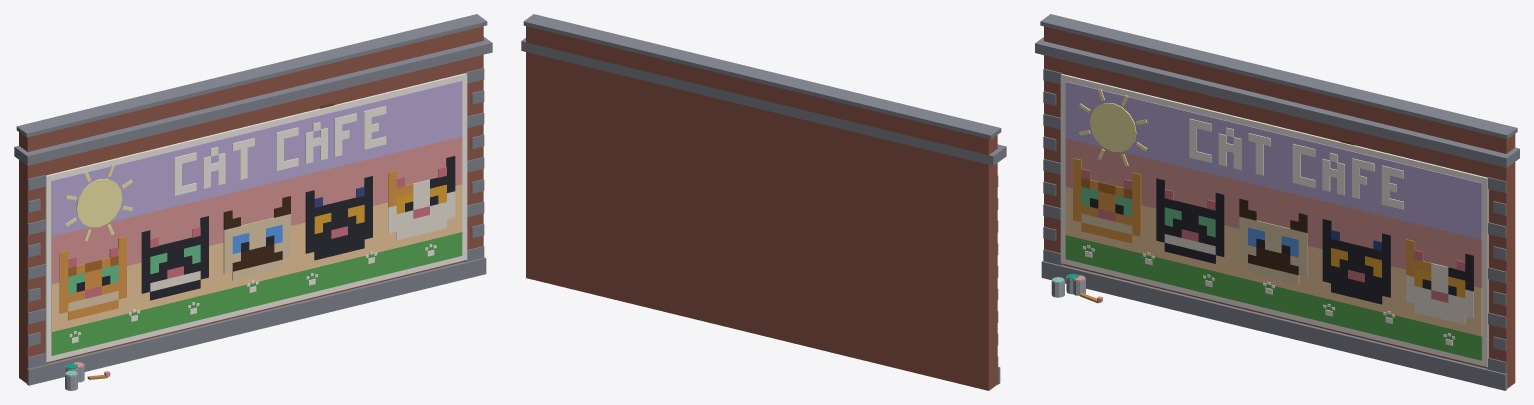
Rendered from CatCafe_Alley_Mural.glb.
3 views of the same model, side by side, from view 1: azimuth 30°, elevation 25°; view 2: azimuth 150°, elevation 25°; view 3: azimuth 330°, elevation 25° (orthographic).
Visible parts, largest first — view 1: CatCafe_Alley_Mural, CatCafe_Alley_Mural_Sun; view 2: CatCafe_Alley_Mural; view 3: CatCafe_Alley_Mural, CatCafe_Alley_Mural_Sun.
Part boxes in pixels (x1,y1,x2,y2): CatCafe_Alley_Mural: (14,14,492,390); CatCafe_Alley_Mural_Sun: (65,165,132,241); CatCafe_Alley_Mural: (521,14,1006,390); CatCafe_Alley_Mural: (1035,14,1519,390); CatCafe_Alley_Mural_Sun: (1079,88,1147,166).
Size of the model in its own units: 30.6 by 15.87 by 3.08.
Materials: 1 (1 with a texture image).
